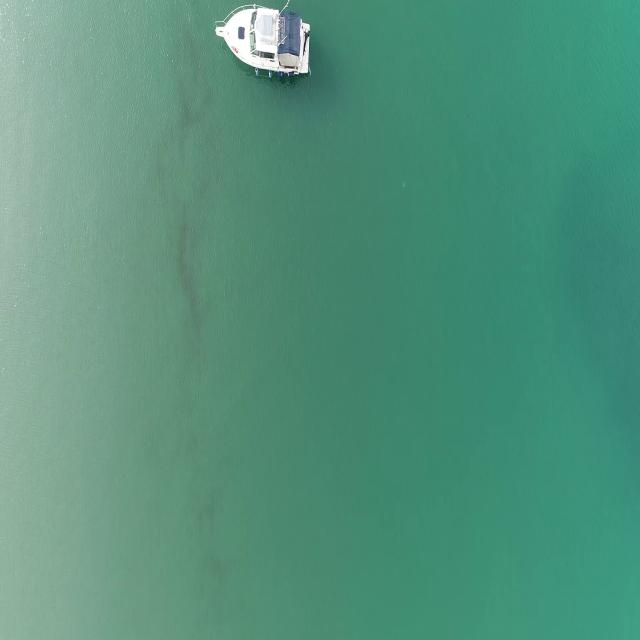boat: (214, 6, 312, 84)
